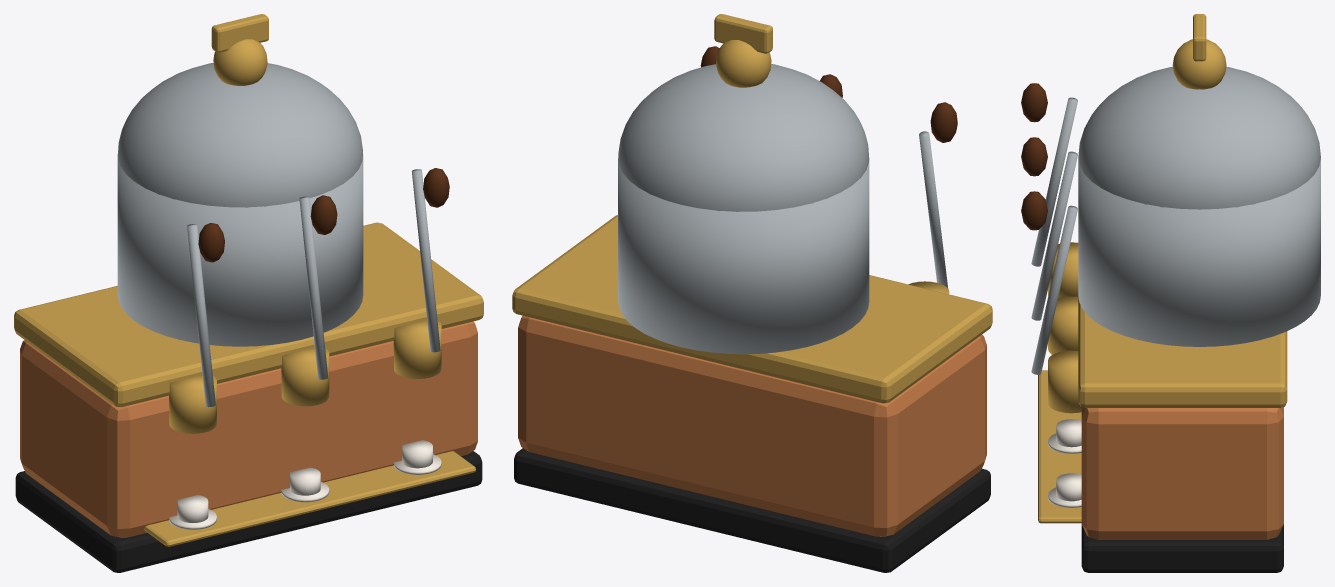
Rendered from kaffee-4-leva.glb.
The picture shows the model from 3 angles, left to right: view 1: azimuth 30°, elevation 25°; view 2: azimuth 150°, elevation 25°; view 3: azimuth 270°, elevation 25°; orthographic projection. The views are drawn at different scales.
Visible parts, largest first — view 1: Cube, Cylinder, Icosphere, Cube.002, Cube.001, Cube.004, Cylinder.005, Cylinder.009, Cylinder.001, Cylinder.002, Cylinder.010, Cylinder.006 (+8 smaller); view 2: Cube, Cylinder, Icosphere, Cube.002, Cube.001, Icosphere.001, Cylinder.002, Cube.003, Icosphere.002; view 3: Cylinder, Icosphere, Cube, Cube.002, Cube.001, Cube.004, Icosphere.001, Cylinder.009, Cylinder.010, Cylinder.006, Cylinder.002, Cylinder.005 (+7 smaller).
Part boxes in pixels (box(x1,y1,x2,y2)): Cube: box(20, 321, 477, 537); Cylinder: box(117, 154, 363, 346); Icosphere: box(117, 63, 362, 207); Cube.002: box(14, 222, 483, 407); Cube.001: box(15, 451, 482, 572); Cube.004: box(144, 451, 475, 546); Cylinder.005: box(281, 347, 329, 406); Cylinder.009: box(393, 320, 441, 378); Cylinder.001: box(169, 375, 216, 433); Cylinder.002: box(187, 224, 215, 407); Cylinder.010: box(411, 169, 440, 352); Cylinder.006: box(299, 196, 328, 379); Cube: box(518, 315, 986, 536); Cylinder: box(618, 157, 869, 354); Icosphere: box(618, 64, 869, 211); Cube.002: box(512, 215, 992, 403); Cube.001: box(514, 448, 990, 572); Icosphere.001: box(716, 40, 771, 87); Cylinder.002: box(919, 131, 948, 288); Cube.003: box(714, 14, 772, 53); Icosphere.002: box(930, 102, 957, 142); Cylinder: box(1078, 158, 1320, 346); Icosphere: box(1078, 66, 1320, 209); Cube: box(1081, 407, 1283, 539); Cube.002: box(1078, 297, 1287, 407); Cube.001: box(1081, 524, 1283, 572); Cube.004: box(1038, 370, 1081, 523); Icosphere.001: box(1172, 39, 1226, 89); Cylinder.009: box(1048, 350, 1081, 413); Cylinder.010: box(1031, 205, 1077, 374); Cylinder.006: box(1031, 151, 1077, 320); Cylinder.002: box(1031, 97, 1077, 266); Cylinder.005: box(1048, 296, 1078, 354).
Size of the model in its own units: 1.25 by 1.51 by 0.89.
